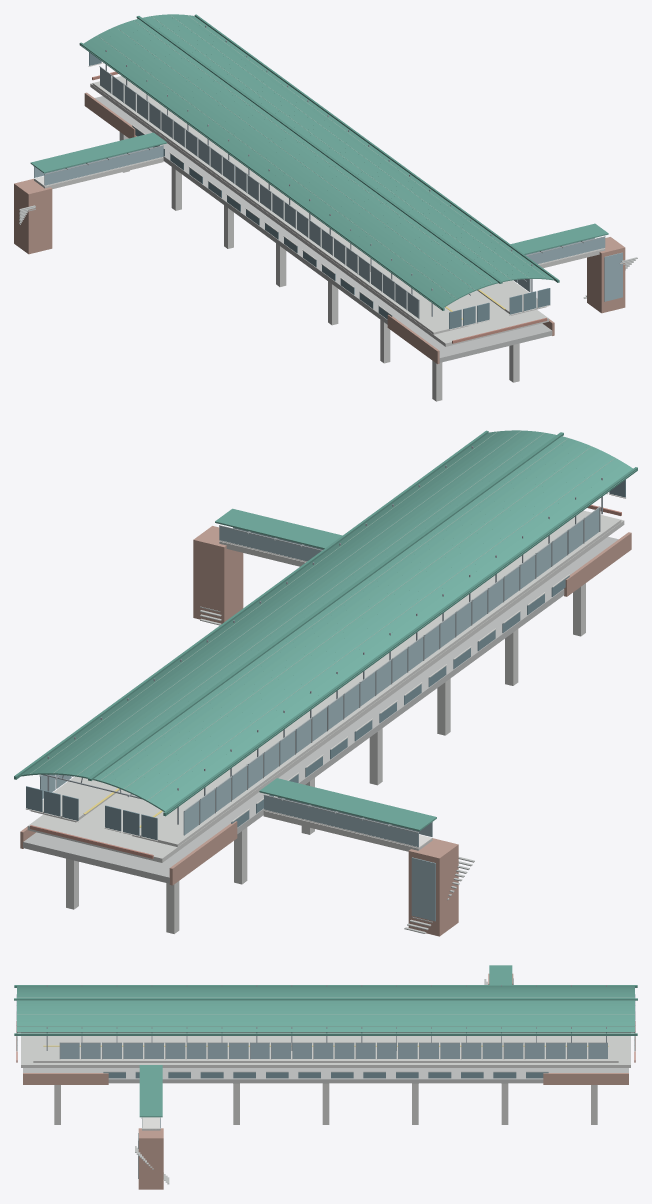
3 renders of one model, top to bottom at view 1: azimuth 30°, elevation 25°; view 2: azimuth 150°, elevation 25°; view 3: azimuth 270°, elevation 25°, orthographic. The views are drawn at different scales.
Visible parts, largest first — view 1: MRT6 station 2 concept geometry; view 2: MRT6 station 2 concept geometry; view 3: MRT6 station 2 concept geometry.
Boxes of the visible parts, left/top/right/bottom form: MRT6 station 2 concept geometry: left=14, top=14, right=637, bottom=401; MRT6 station 2 concept geometry: left=14, top=430, right=637, bottom=936; MRT6 station 2 concept geometry: left=14, top=965, right=637, bottom=1189.
Bounding box in the file's own units: 101 × 29.49 × 154.
